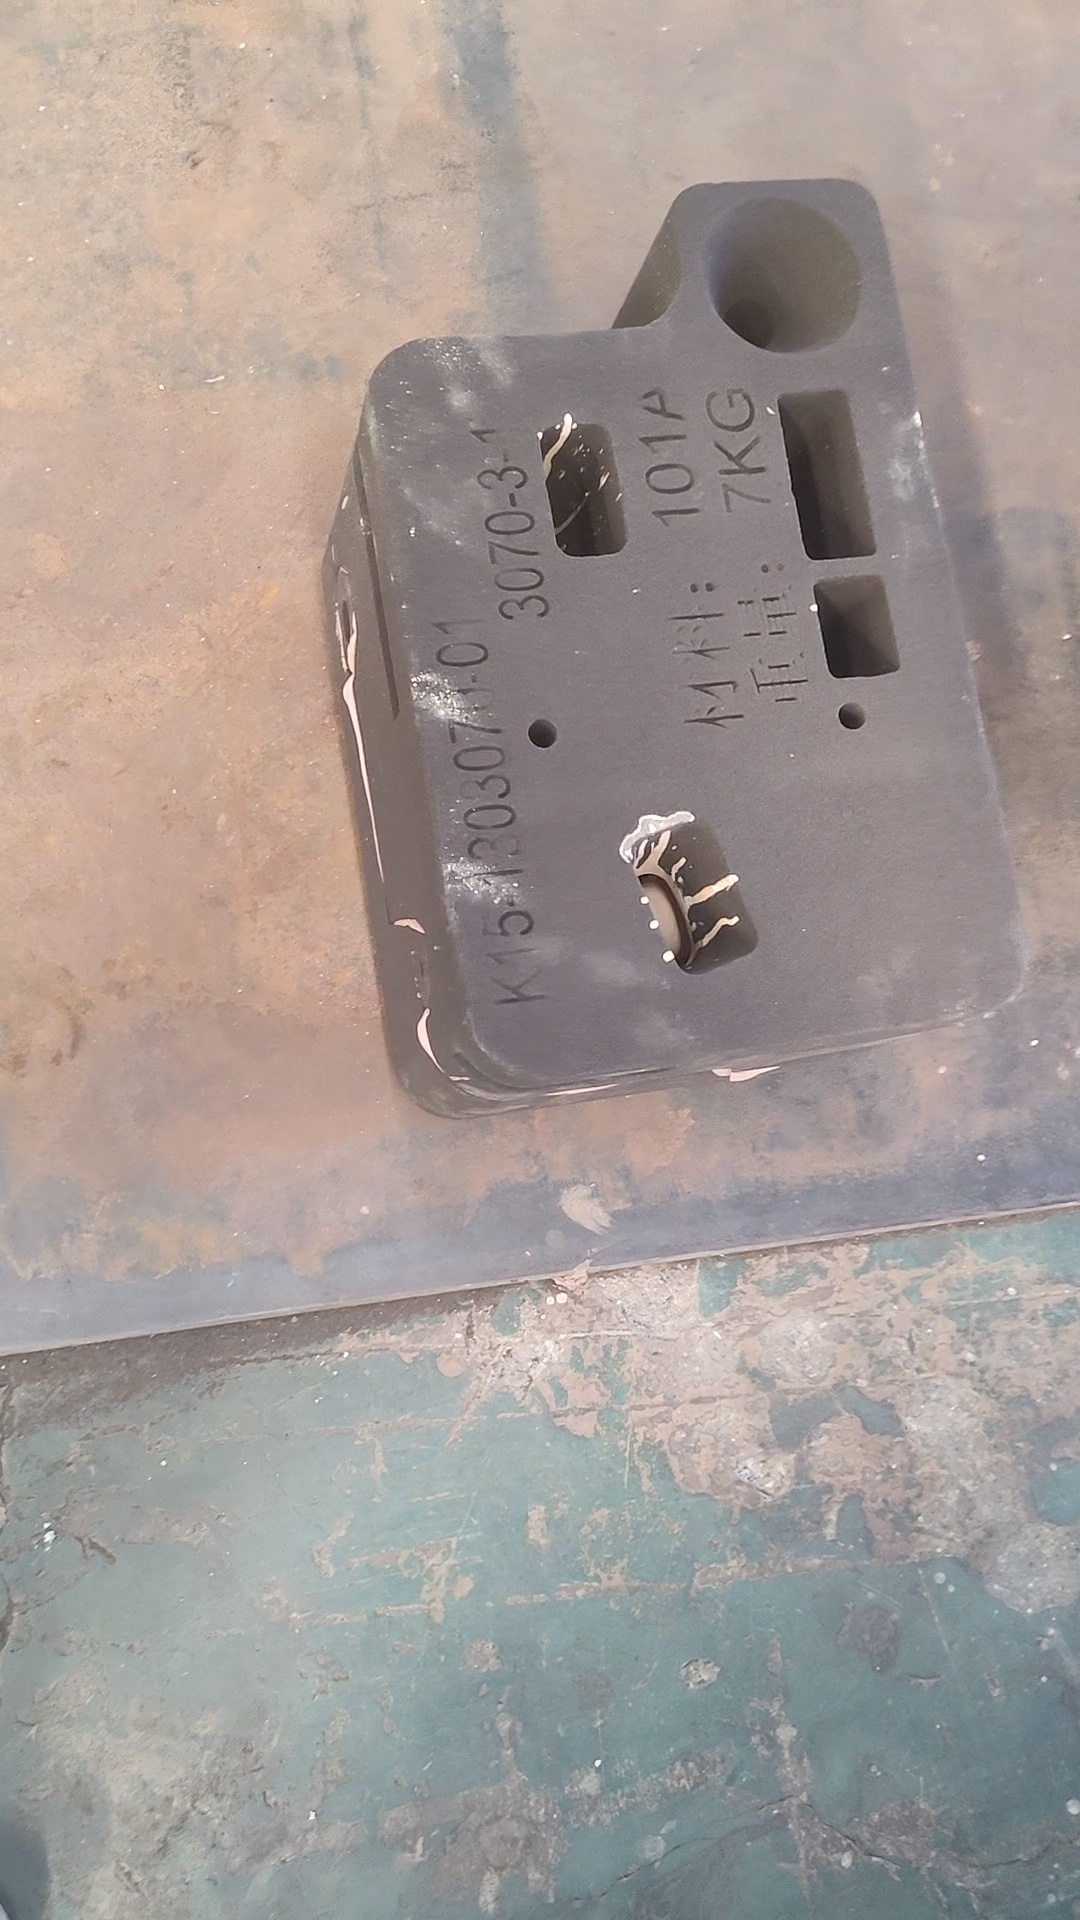pouring hole: (702, 195, 862, 353)
